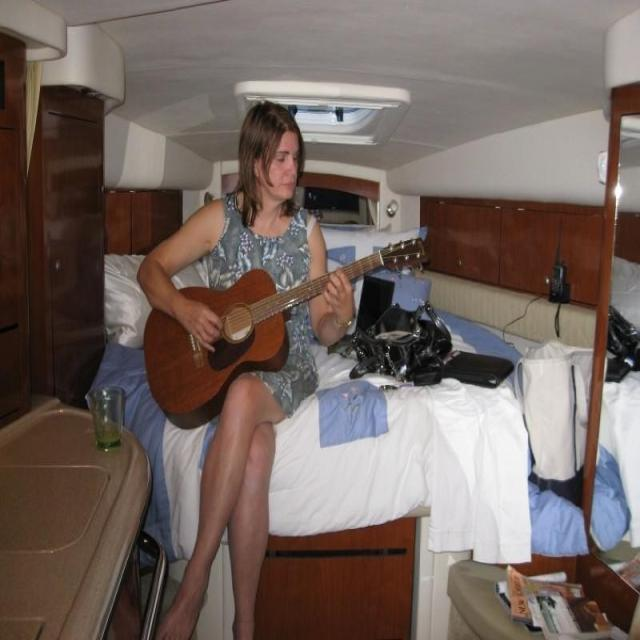guitar: (142, 234, 430, 427)
